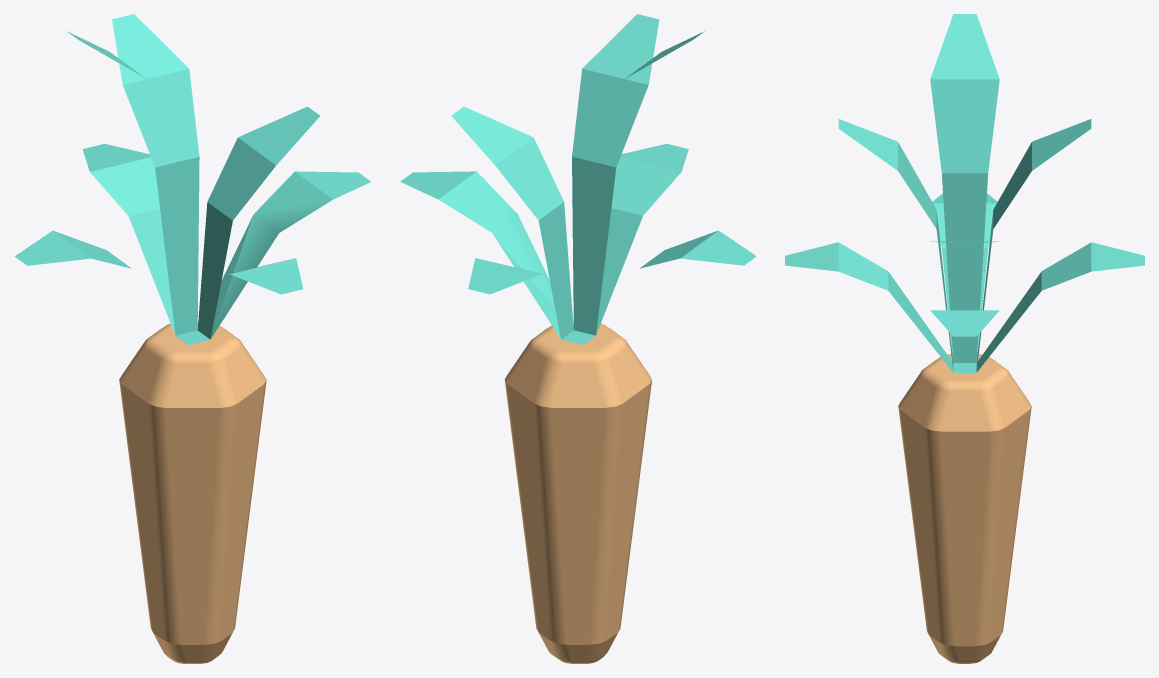
The model's file is crop_carrot.glb.
3 renders of one model, left to right at view 1: azimuth 30°, elevation 25°; view 2: azimuth 150°, elevation 25°; view 3: azimuth 270°, elevation 25°, orthographic. The views are drawn at different scales.
Visible parts, largest first — view 1: crop_carrot; view 2: crop_carrot; view 3: crop_carrot.
Boxes of the visible parts, bbox=[...] form: crop_carrot: bbox=[15, 14, 370, 663]; crop_carrot: bbox=[400, 14, 756, 663]; crop_carrot: bbox=[785, 14, 1144, 663].
Size of the model in its own units: 0.3431 by 0.6194 by 0.3431.
